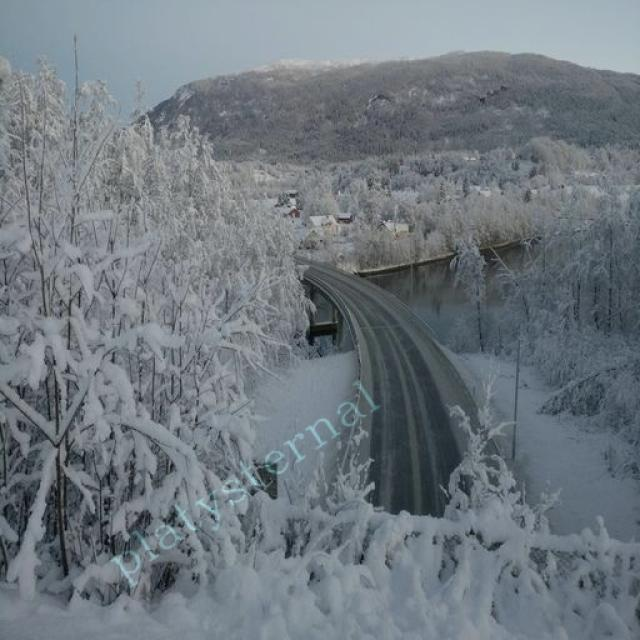watermark: (109, 367, 382, 589)
